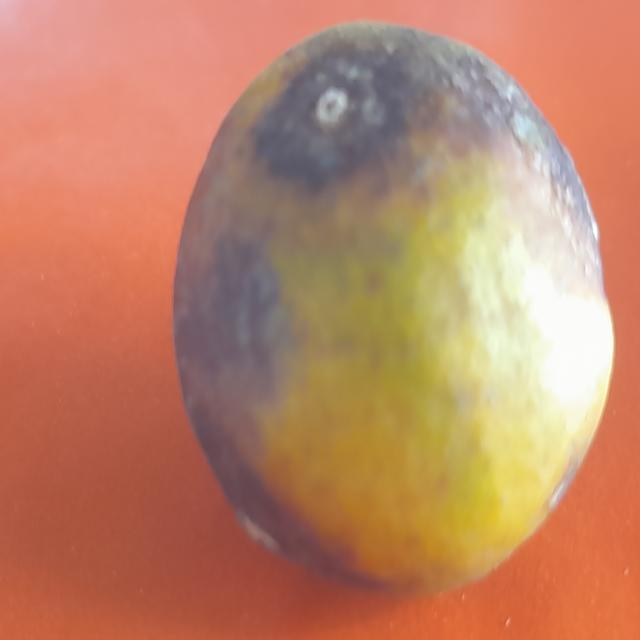black spot: (158, 29, 610, 576)
